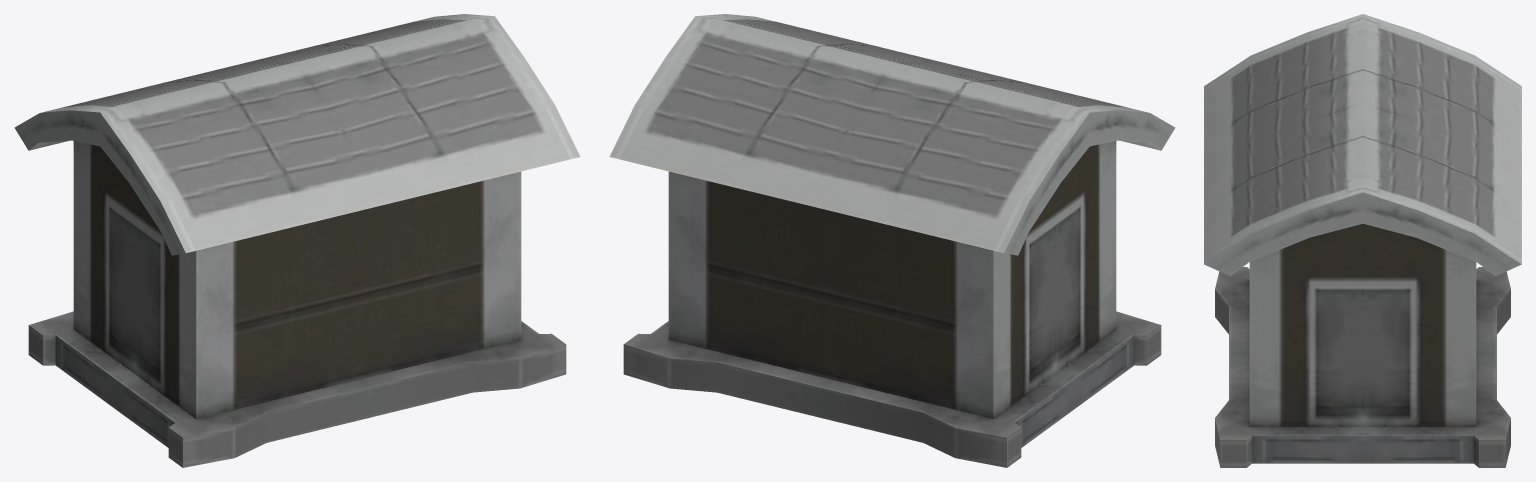
File: Part - Addon 04-CVi4DRuC.glb
3 views of the same model, side by side, from view 1: azimuth 30°, elevation 25°; view 2: azimuth 150°, elevation 25°; view 3: azimuth 270°, elevation 25° (orthographic). The views are drawn at different scales.
Parts seen in each view (by area): view 1: Addon_04; view 2: Addon_04; view 3: Addon_04.
Boxes of the visible parts, x1,y1,x2,y2 form: Addon_04: (14,14,580,467); Addon_04: (609,14,1175,467); Addon_04: (1204,14,1521,467).
Bounding box in the file's own units: 1.4 × 1.02 × 1.06.
Materials: 1 (1 with a texture image).
